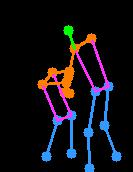normal: (63, 22, 133, 172)
